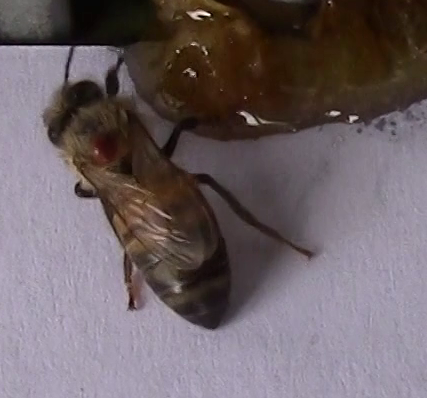Varroa destructor: (87, 127, 116, 164)
